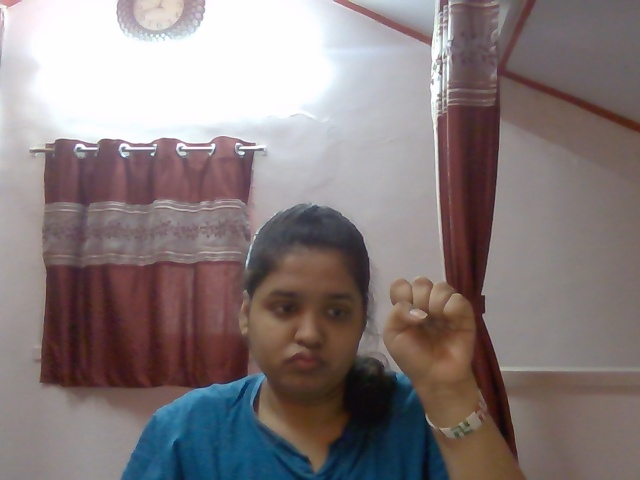s: (373, 268, 489, 392)
